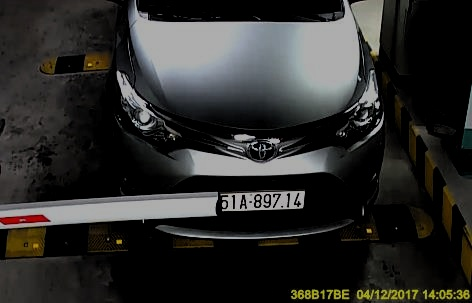plate: (220, 189, 307, 214)
